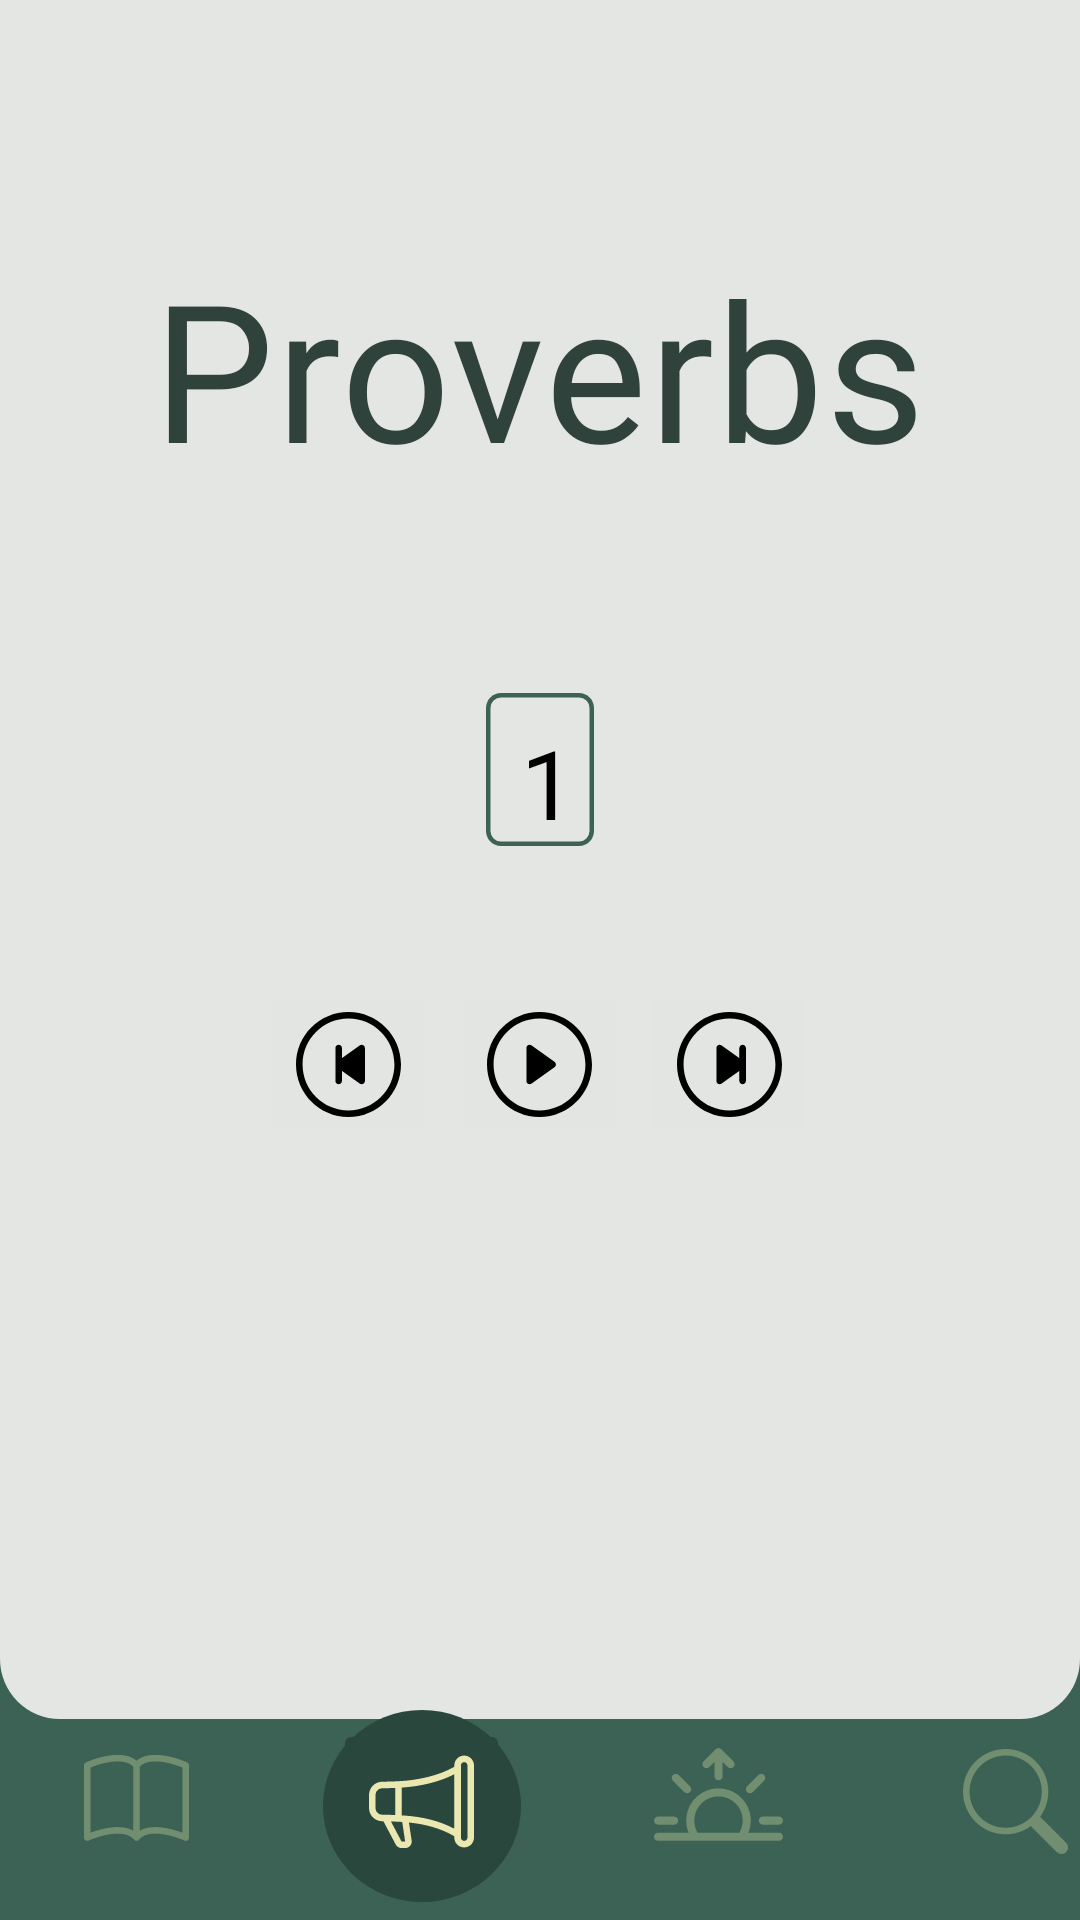

Screen size 1080w x 1920h. Icon name, then its center in pixels as [x,y]:
audio: [421,1801]
book: [136,1798]
play circle: [539,1064]
skip end circle: [729,1064]
skip start circle: [348,1064]
sunrise: [718,1794]
